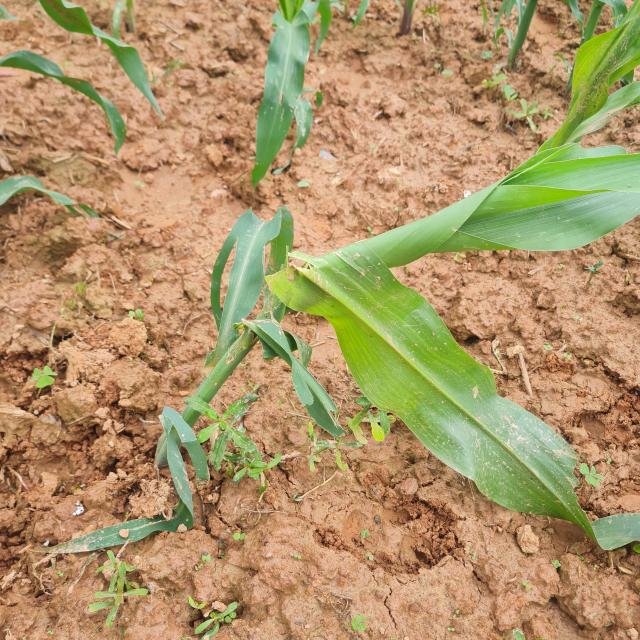maize: (0, 0, 640, 205), (218, 188, 640, 404)
weed: (171, 404, 290, 523)
